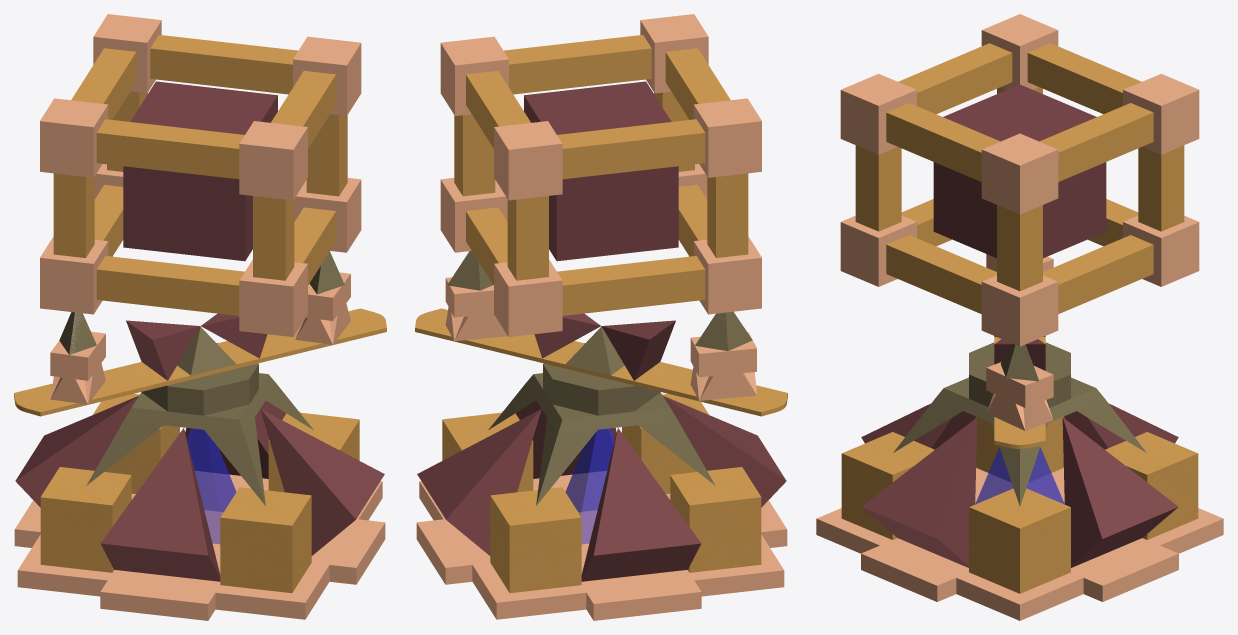
File: Obra2_stoer.glb
The picture shows the model from 3 angles, left to right: view 1: azimuth 30°, elevation 25°; view 2: azimuth 150°, elevation 25°; view 3: azimuth 270°, elevation 25°; orthographic projection. The views are drawn at different scales.
Visible parts, largest first — view 1: Cube.014, Cube.001, Cube.009, Cube.010, Cube, Plane, Cube.004, Cube.003, Cube.006; view 2: Cube.014, Cube.001, Cube.009, Cube.010, Cube, Plane, Cube.004, Cube.003, Cube.006; view 3: Cube.014, Cube.001, Cube.009, Cube.010, Cube, Cube.006, Cube.003, Plane.
Part boxes in pixels (x1,y1,x2,y2): Cube.014: [40, 14, 361, 336]; Cube.001: [15, 81, 384, 581]; Cube.009: [40, 394, 359, 593]; Cube.010: [14, 471, 385, 620]; Cube: [59, 251, 344, 505]; Plane: [14, 308, 386, 416]; Cube.004: [50, 331, 105, 404]; Cube.003: [187, 428, 236, 544]; Cube.006: [295, 272, 350, 344]; Cube.014: [440, 14, 761, 336]; Cube.001: [417, 81, 786, 581]; Cube.009: [442, 394, 761, 593]; Cube.010: [416, 471, 787, 620]; Cube: [447, 251, 752, 505]; Plane: [415, 308, 787, 416]; Cube.004: [690, 332, 756, 400]; Cube.003: [565, 428, 614, 544]; Cube.006: [445, 277, 507, 341]; Cube.014: [840, 14, 1199, 346]; Cube.001: [861, 84, 1178, 567]; Cube.009: [841, 416, 1198, 593]; Cube.010: [816, 468, 1223, 620]; Cube: [893, 342, 1146, 506]; Cube.006: [986, 362, 1053, 430]; Cube.003: [975, 447, 1064, 504]; Plane: [994, 337, 1045, 448].
Size of the model in its own units: 22.64 by 27.3 by 22.63.
Materials: 6 (1 with a texture image).
